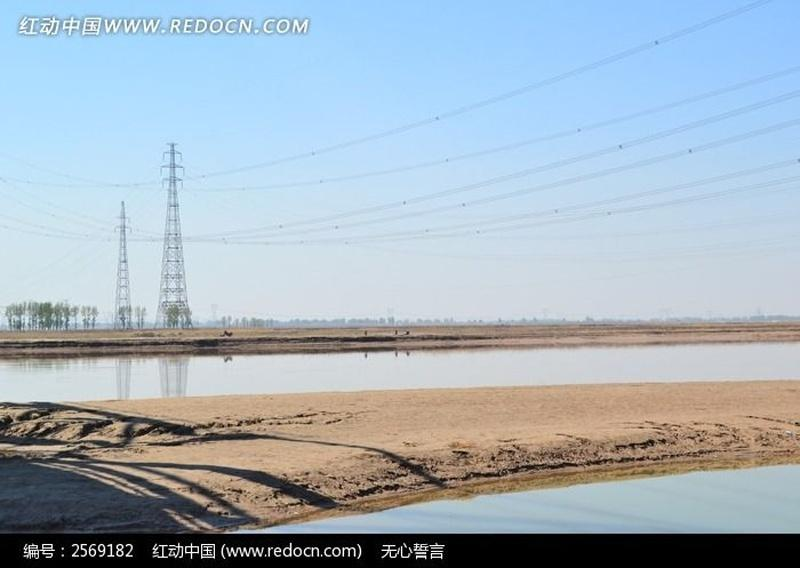power_tower: (142, 133, 206, 323), (106, 197, 137, 332)
